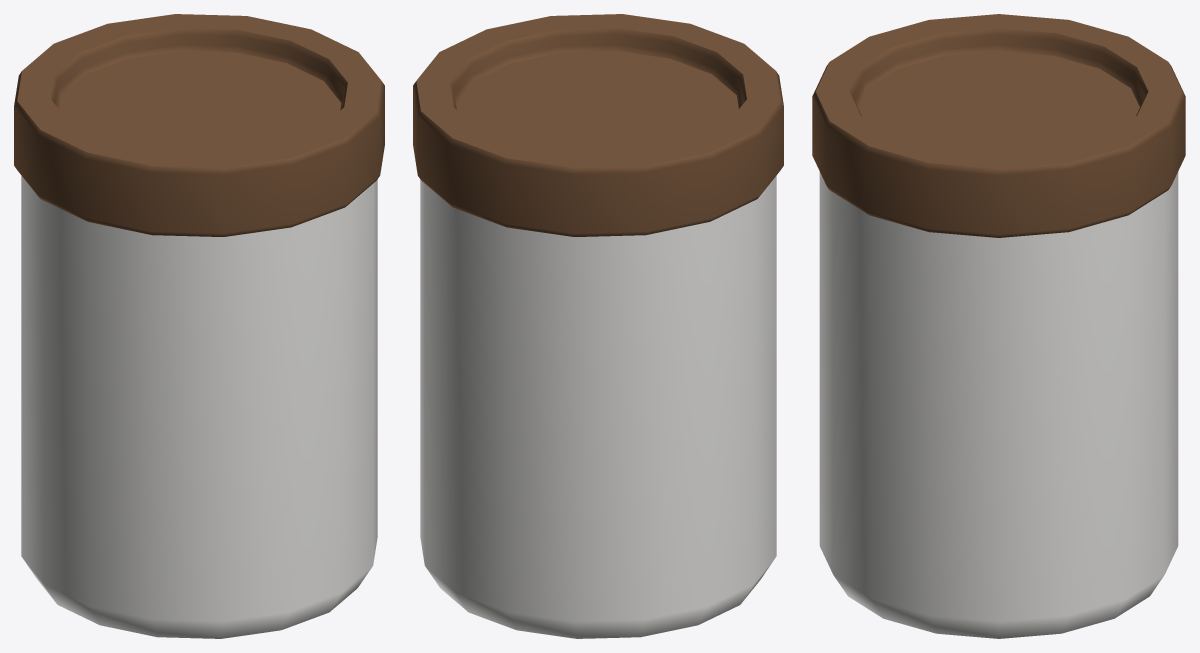
Rendered from Jar_11.glb.
The picture shows the model from 3 angles, left to right: view 1: azimuth 30°, elevation 25°; view 2: azimuth 150°, elevation 25°; view 3: azimuth 270°, elevation 25°; orthographic projection.
Visible parts, largest first — view 1: Jar_11; view 2: Jar_11; view 3: Jar_11.
Boxes of the visible parts, bbox=[...] form: Jar_11: bbox=[14, 14, 384, 638]; Jar_11: bbox=[413, 14, 783, 638]; Jar_11: bbox=[812, 14, 1185, 638].
Size of the model in its own units: 0.2211 by 0.3126 by 0.2211.
Materials: 2 (2 with a texture image).
